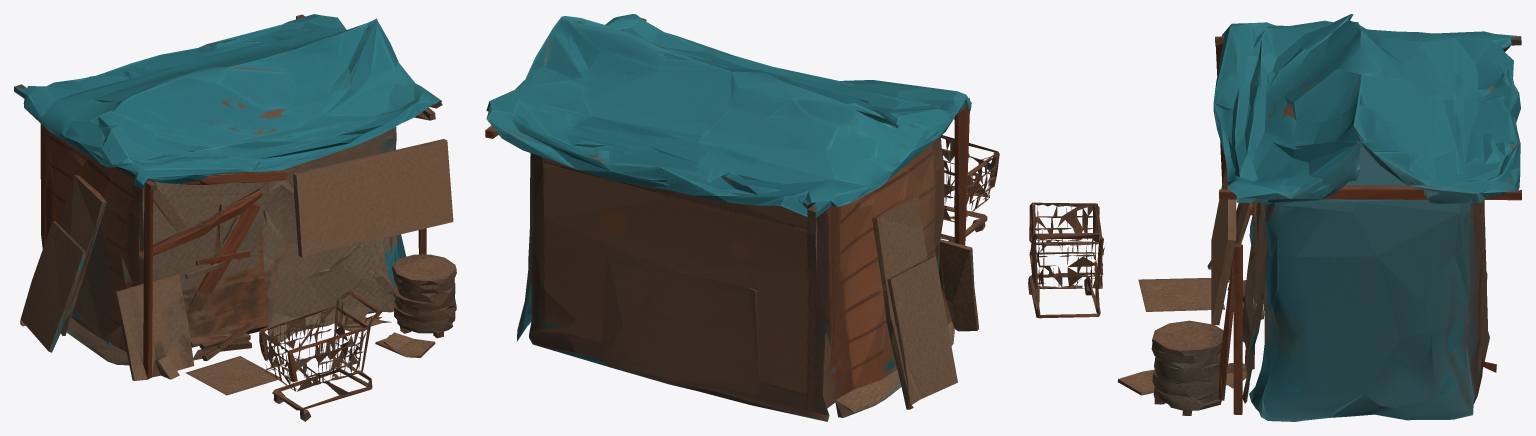
3 views of the same model, side by side, from view 1: azimuth 30°, elevation 25°; view 2: azimuth 150°, elevation 25°; view 3: azimuth 270°, elevation 25° (orthographic). The views are drawn at different scales.
Size of the model in its own units: 1.69 by 1.14 by 1.83.
Materials: 1 (1 with a texture image).
